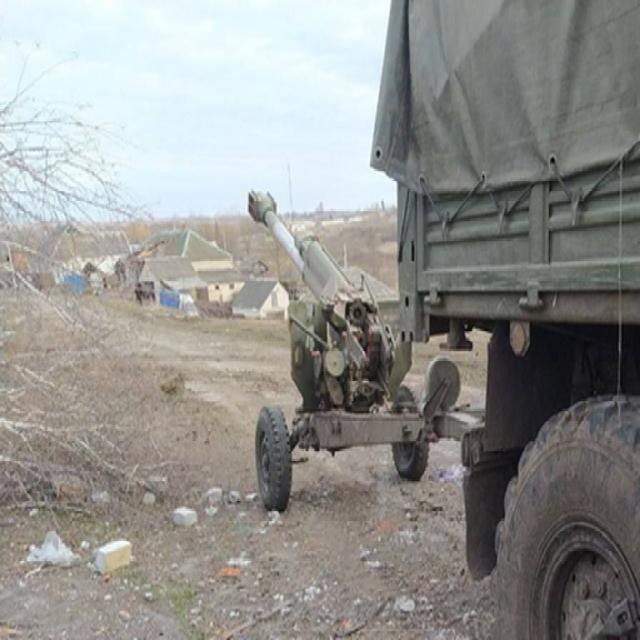ART: (242, 180, 432, 500)
